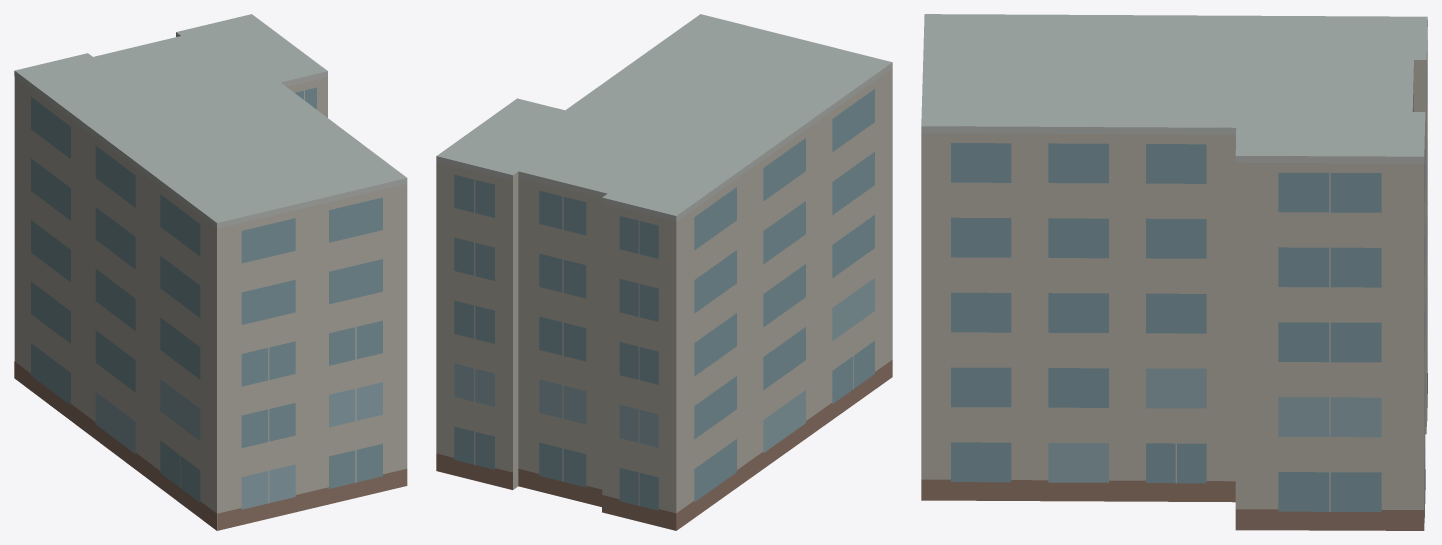
The model's file is survey-upis-32638451.glb.
The picture shows the model from 3 angles, left to right: view 1: azimuth 30°, elevation 25°; view 2: azimuth 150°, elevation 25°; view 3: azimuth 270°, elevation 25°; orthographic projection. The views are drawn at different scales.
Parts seen in each view (by area): view 1: survey-upis-32638451.tmp; view 2: survey-upis-32638451.tmp; view 3: survey-upis-32638451.tmp.
Boxes of the visible parts, bbox=[...] form: survey-upis-32638451.tmp: bbox=[14, 14, 407, 530]; survey-upis-32638451.tmp: bbox=[436, 14, 892, 530]; survey-upis-32638451.tmp: bbox=[921, 14, 1427, 530].
Size of the model in its own units: 10.72 by 13.1 by 16.08.
